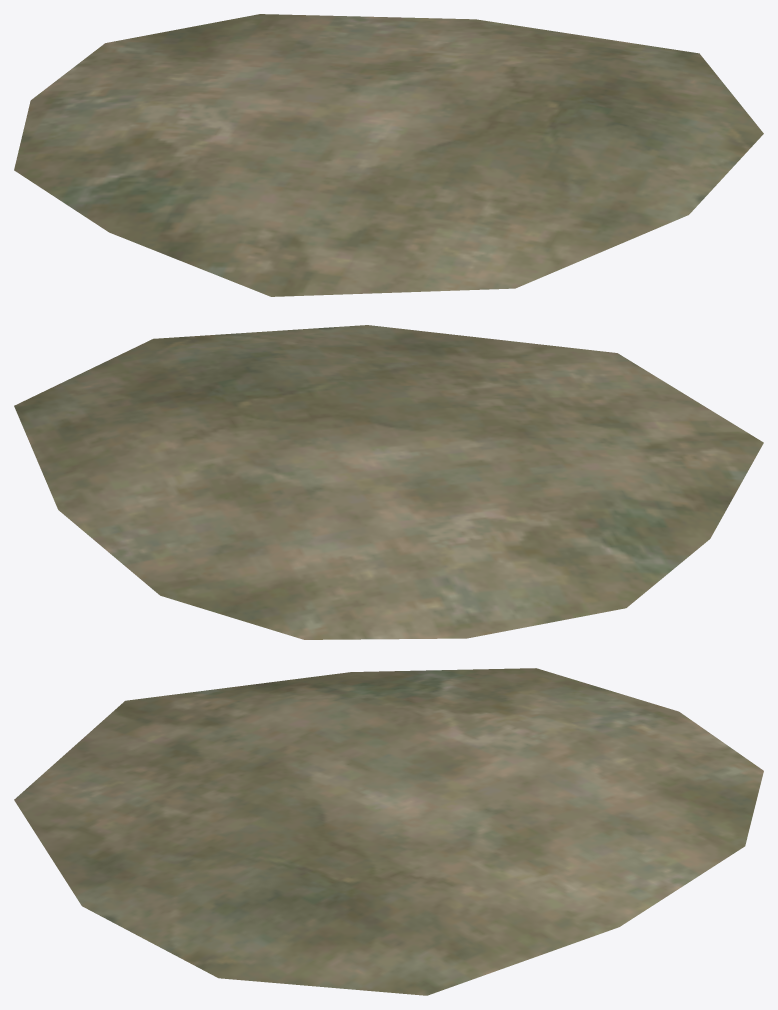
The model's file is EKH_CAVERNS_PS_CA_OBJECT31.fbx.
3 renders of one model, top to bottom at view 1: azimuth 30°, elevation 25°; view 2: azimuth 150°, elevation 25°; view 3: azimuth 270°, elevation 25°, orthographic. The views are drawn at different scales.
Parts seen in each view (by area): view 1: EKH_CAVERNS_PS_CA_OBJECT31; view 2: EKH_CAVERNS_PS_CA_OBJECT31; view 3: EKH_CAVERNS_PS_CA_OBJECT31.
Part boxes in pixels (x1,y1,x2,y2): EKH_CAVERNS_PS_CA_OBJECT31: (14, 14, 763, 296); EKH_CAVERNS_PS_CA_OBJECT31: (14, 325, 763, 639); EKH_CAVERNS_PS_CA_OBJECT31: (14, 668, 763, 995).
Bounding box in the file's own units: 30666 × 915 × 29662.
Materials: 1 (1 with a texture image).
